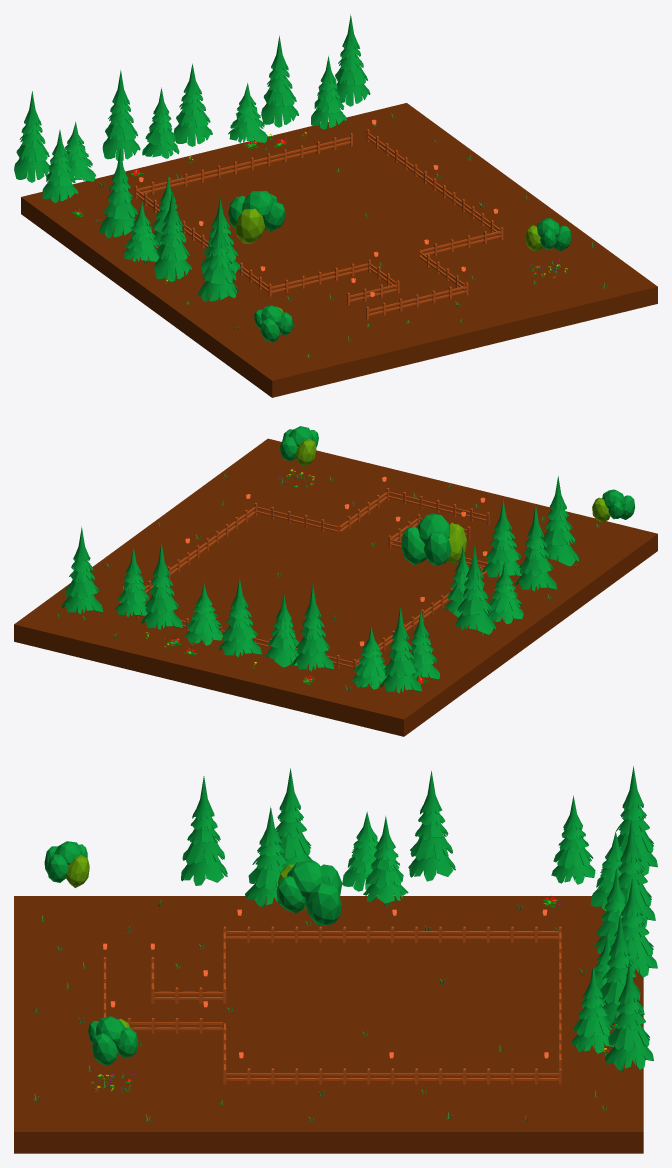
File: world-no-physic-environment.glb
The picture shows the model from 3 angles, top to bottom: view 1: azimuth 30°, elevation 25°; view 2: azimuth 150°, elevation 25°; view 3: azimuth 270°, elevation 25°; orthographic projection. The views are drawn at different scales.
Visible parts, largest first — view 1: Cube.001, pine-tree.001, tree.001, tree.002; view 2: Cube.001, pine-tree.001, tree.001, tree.002; view 3: Cube.001, pine-tree.001, tree.001, tree.002.
Part boxes in pixels (x1,y1,x2,y2): Cube.001: [21, 103, 657, 397]; pine-tree.001: [14, 14, 370, 301]; tree.001: [228, 191, 571, 342]; tree.002: [235, 208, 543, 312]; Cube.001: [14, 438, 657, 736]; pine-tree.001: [61, 476, 578, 693]; tree.001: [280, 426, 635, 565]; tree.002: [295, 439, 610, 564]; Cube.001: [14, 896, 643, 1153]; pine-tree.001: [181, 766, 657, 1070]; tree.001: [44, 841, 342, 1066]; tree.002: [66, 855, 306, 1027].
Size of the model in its own units: 18.1 by 5.45 by 20.29.
